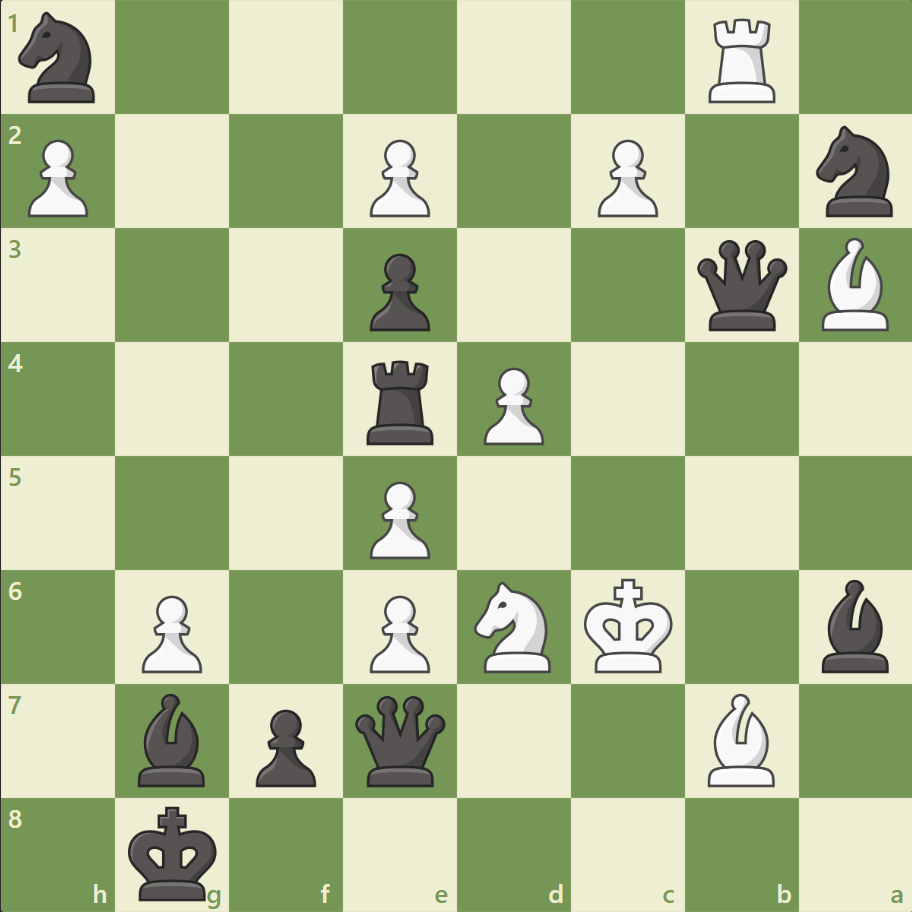B: (698, 687, 782, 790), (812, 233, 896, 336)
K: (579, 571, 679, 679)
N: (465, 575, 562, 677)
P: (133, 586, 208, 677), (474, 359, 549, 450), (20, 132, 95, 223), (361, 586, 435, 677), (361, 473, 435, 564), (588, 132, 662, 223), (361, 132, 435, 223)
R: (700, 12, 783, 109)
b: (131, 687, 215, 790), (812, 574, 896, 676)
k: (124, 798, 224, 906)
n: (11, 7, 108, 110), (806, 121, 903, 223)
p: (247, 700, 322, 791), (361, 246, 435, 337)
q: (351, 690, 450, 789), (691, 236, 790, 335)
r: (360, 352, 442, 449)
